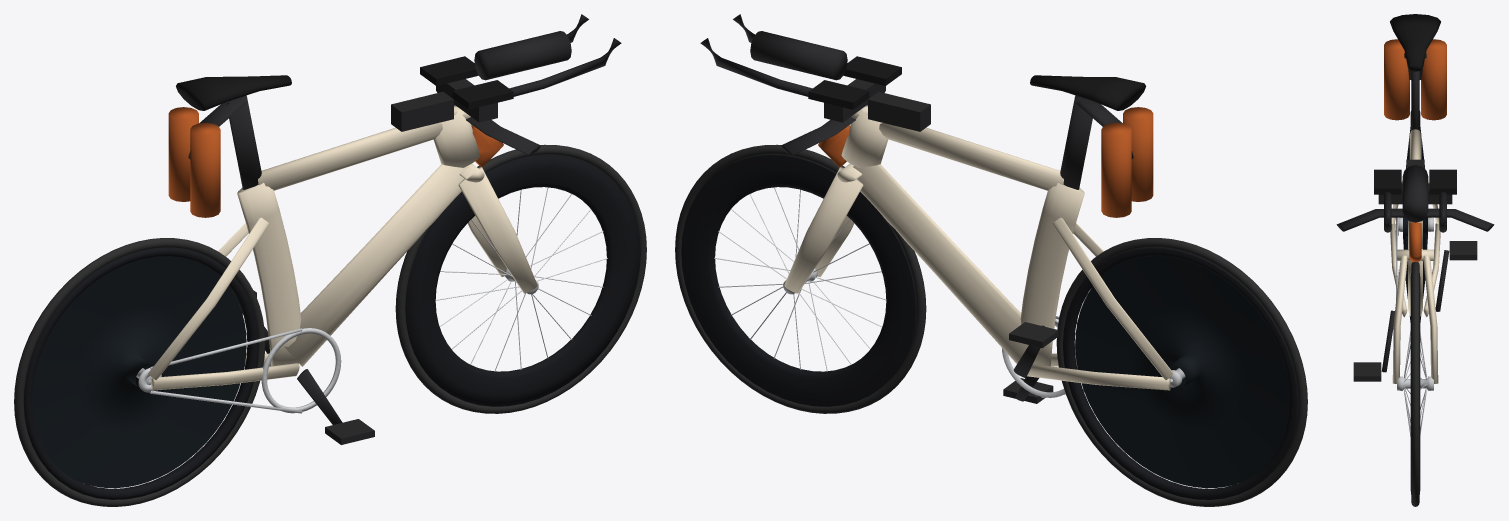
File: bike.glb
The picture shows the model from 3 angles, left to right: view 1: azimuth 30°, elevation 25°; view 2: azimuth 150°, elevation 25°; view 3: azimuth 270°, elevation 25°; orthographic projection. The views are drawn at different scales.
Parts seen in each view (by area): view 1: wheel_rear_disc, wheel_front_rim, down_tube, wheel_rear_rim, wheel_rear_tyre, wheel_front_tyre, seat_tube, top_tube, fork_l, aero_bottle, rear_bottle_-1, saddle (+15 smaller); view 2: wheel_rear_disc, wheel_front_rim, down_tube, wheel_rear_rim, wheel_rear_tyre, wheel_front_tyre, seat_tube, top_tube, fork_r, aero_bottle, rear_bottle_1, saddle (+13 smaller); view 3: wheel_front_tyre, rear_bottle_-1, rear_bottle_1, saddle, aero_bottle, base_bar, fork_l, fork_r, wheel_front_rim, armpad_l, armpad_r, wheel_rear_disc (+16 smaller).
Boxes of the visible parts, box(x1,y1,x2,y2) form: wheel_rear_disc: box(32, 256, 246, 488); wheel_front_rim: box(405, 154, 640, 406); down_tube: box(284, 164, 468, 366); wheel_rear_rim: box(23, 247, 258, 499); wheel_rear_tyre: box(14, 238, 265, 506); wheel_front_tyre: box(395, 144, 646, 413); seat_tube: box(237, 183, 301, 366); top_tube: box(258, 123, 442, 190); fork_l: box(458, 167, 537, 293); aero_bottle: box(474, 31, 571, 80); rear_bottle_-1: box(190, 123, 220, 217); saddle: box(176, 75, 291, 110); wheel_rear_disc: box(1075, 256, 1289, 488); wheel_front_rim: box(681, 154, 916, 406); down_tube: box(853, 164, 1028, 363); wheel_rear_rim: box(1063, 247, 1298, 499); wheel_rear_tyre: box(1056, 238, 1307, 506); wheel_front_tyre: box(675, 144, 926, 413); seat_tube: box(1020, 183, 1084, 366); top_tube: box(879, 123, 1063, 190); fork_r: box(784, 167, 863, 293); aero_bottle: box(750, 31, 847, 80); rear_bottle_1: box(1101, 123, 1131, 217); saddle: box(1030, 75, 1145, 110); wheel_front_tyre: box(1411, 261, 1419, 506); rear_bottle_-1: box(1384, 39, 1409, 120); rear_bottle_1: box(1421, 39, 1446, 120); saddle: box(1390, 14, 1440, 71); aero_bottle: box(1402, 165, 1428, 222); base_bar: box(1336, 208, 1494, 231); fork_l: box(1392, 255, 1407, 383); fork_r: box(1423, 255, 1438, 383); wheel_front_rim: box(1410, 273, 1420, 494); armpad_l: box(1374, 169, 1401, 194); armpad_r: box(1429, 169, 1456, 194); wheel_rear_disc: box(1403, 127, 1427, 322).
Bounding box in the file's own units: 1.69 × 1.03 × 0.4281.
